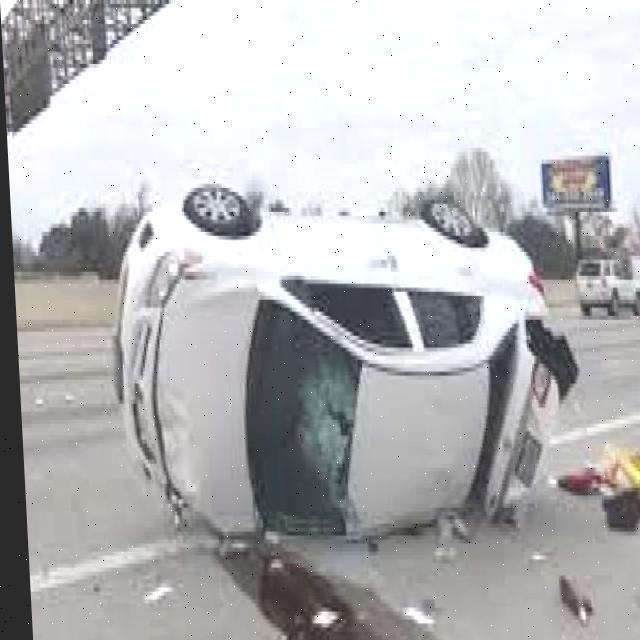single accident: (134, 176, 601, 551)
